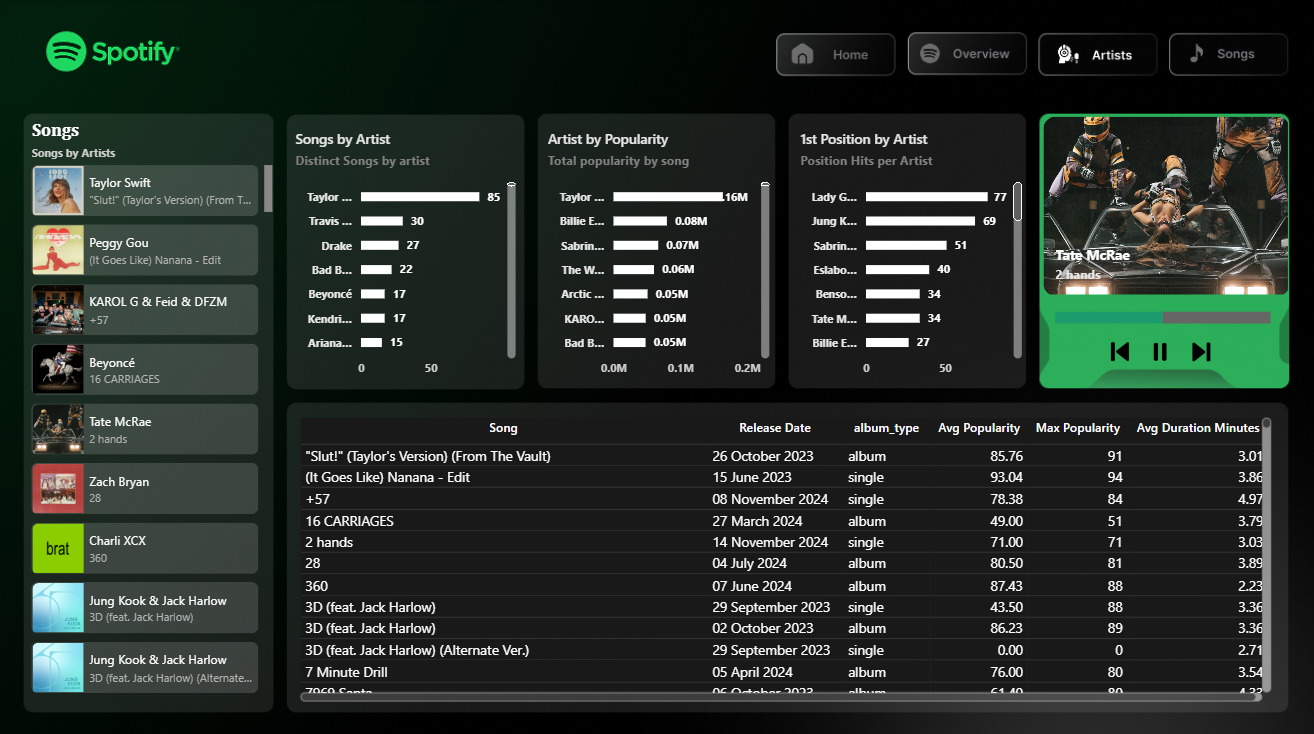

What the dashboard file says about the page in this screenshot:
{"tool":"powerbi","page":{"name":"Artists","canvas":[1280,720],"ordinal":2},"visuals":[{"type":"actionButton","box":[753.8,35,118.2,41],"z":0},{"type":"actionButton","box":[881.7,35,118.2,41],"z":1},{"type":"actionButton","box":[1009.5,35,118.2,41],"z":2},{"type":"actionButton","box":[1138.6,35,118.2,41],"z":3},{"type":"advancedSlicerVisual","title":"Songs","fields":{"Values":["Top-50-world.song"]},"box":[26.5,117,244.9,571.9],"z":4},{"type":"advancedSlicerVisual","title":"Songs","fields":{"Values":["Top-50-world.song"]},"box":[989.3,108.6,290.8,185.8],"z":8},{"type":"image","box":[1079.2,333.3,22,20],"z":9},{"type":"image","box":[1158.3,333.3,22,20],"z":10},{"type":"image","box":[1118.8,333.3,22,20],"z":11},{"type":"hundredPercentStackedBarChart","fields":{"Y":["_Measures.Avg Popularity","Avg(Top-50-world.popularity)"]},"box":[1023,275.7,219.4,61],"z":12},{"type":"tableEx","fields":{"Values":["Top-50-world.song","Top-50-world.release_date","Top-50-world.album_type","_Measures.Avg Popularity","_Measures.Max Popularity","_Measures.Avg Duration Minutes"]},"box":[287.1,403,955.5,285.9],"z":13},{"type":"clusteredBarChart","title":"Songs by Artist","fields":{"Y":["_Measures.Distinct Songs"],"Category":["Top-50-world.artist"]},"box":[283.5,126.9,224.4,249.7],"z":14},{"type":"clusteredBarChart","title":"Artist by Popularity","fields":{"Category":["Top-50-world.artist"],"Y":["Sum(Top-50-world.popularity)"]},"box":[528.4,126.9,225.6,249.7],"z":15},{"type":"clusteredBarChart","title":"1st Position by Artist","fields":{"Category":["Top-50-world.artist"],"Y":["_Measures.Position Hits per Artist"]},"box":[774.5,126.9,225.6,249.7],"z":16},{"type":"image","box":[222.5,116.7,37.7,25.5],"z":17},{"type":"image","box":[470.5,126.4,37.7,25.5],"z":18},{"type":"image","box":[716.1,126.4,37.7,25.5],"z":19},{"type":"image","box":[962.9,126.4,37.7,25.5],"z":20}]}

Visuals, with their boxes in screenshot pixels (x1, y1, x2, y2), scaled from the page's 1280x720 canvas onto the 1314x734 screenshot:
actionButton: bbox(774, 36, 895, 77)
actionButton: bbox(905, 36, 1026, 77)
actionButton: bbox(1036, 36, 1158, 77)
actionButton: bbox(1169, 36, 1290, 77)
"Songs" advancedSlicerVisual: bbox(27, 119, 279, 702)
"Songs" advancedSlicerVisual: bbox(1016, 111, 1313, 300)
image: bbox(1108, 340, 1130, 360)
image: bbox(1189, 340, 1212, 360)
image: bbox(1149, 340, 1171, 360)
hundredPercentStackedBarChart - _Measures.Avg Popularity x Avg(Top-50-world.popularity): bbox(1050, 281, 1275, 343)
tableEx - Top-50-world.song x Top-50-world.release_date: bbox(295, 411, 1276, 702)
"Songs by Artist" clusteredBarChart: bbox(291, 129, 521, 384)
"Artist by Popularity" clusteredBarChart: bbox(542, 129, 774, 384)
"1st Position by Artist" clusteredBarChart: bbox(795, 129, 1027, 384)
image: bbox(228, 119, 267, 145)
image: bbox(483, 129, 522, 155)
image: bbox(735, 129, 774, 155)
image: bbox(988, 129, 1027, 155)
